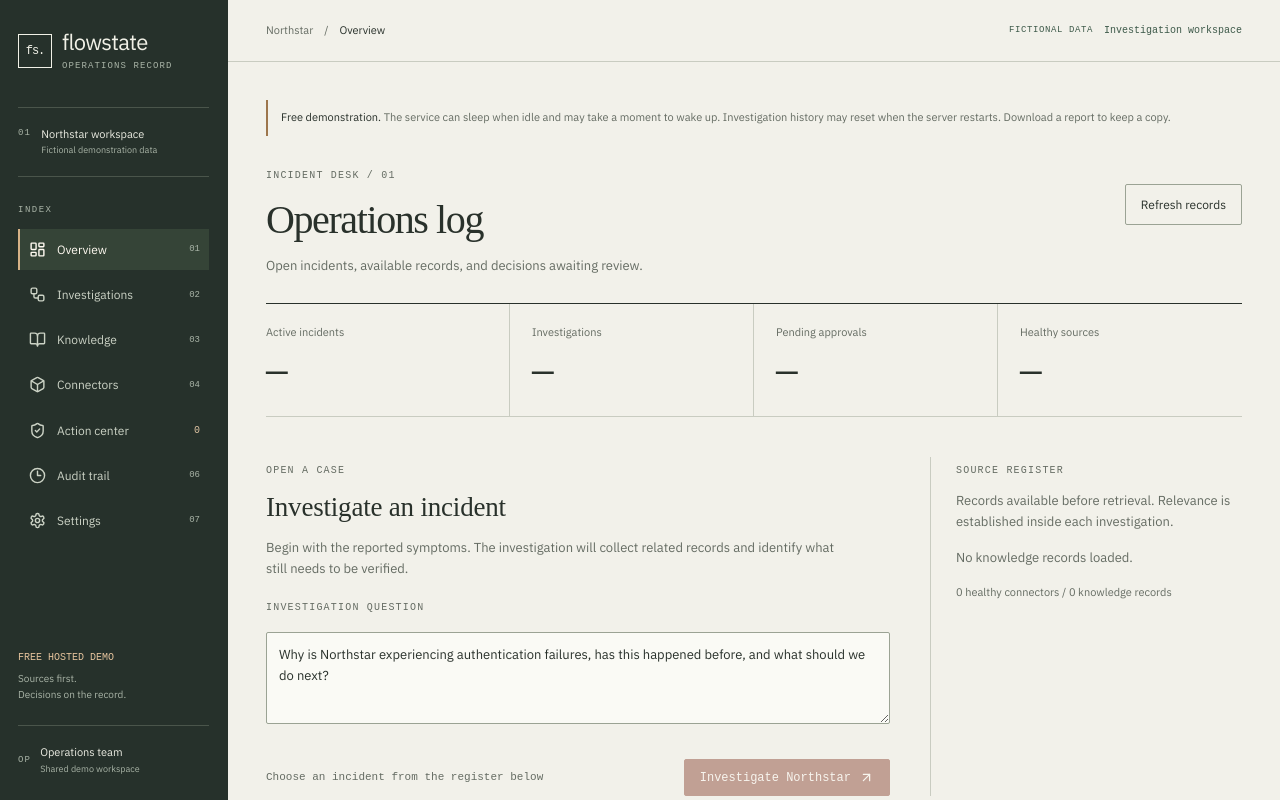
Test case: discloses free hosting sleep and temporary history without promising persistence
Expected: the element that starts with "Free demonstration." shows "The service can sleep when idle", x1=381 y1=110 x2=723 y2=124
Expected: the element that starts with "Free demonstration." shows "Investigation history may reset", x1=723 y1=110 x2=1171 y2=124
Click the button "Settings 07": (114,520) x1=18 y1=500 x2=209 y2=541
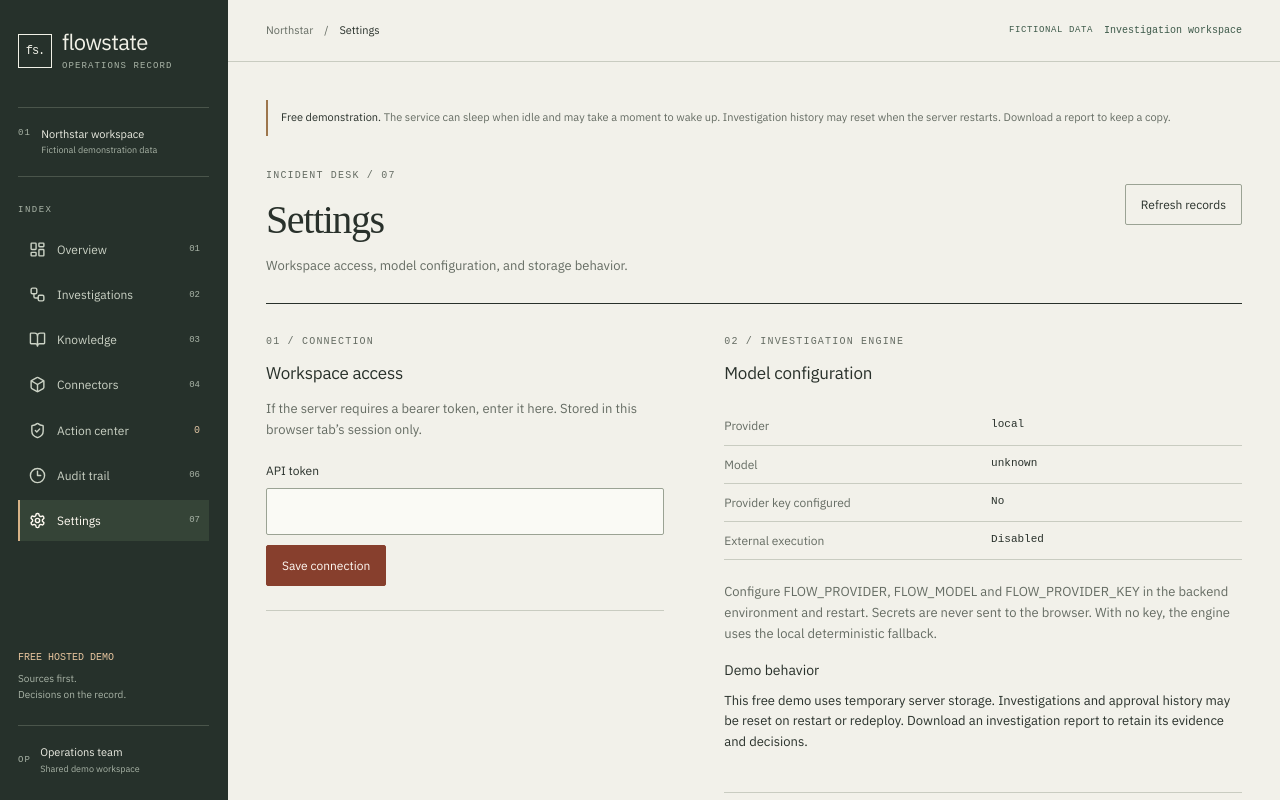
Now the text "This free demo uses temporary server storage" is shown, box x1=724 y1=692 x2=1230 y2=750
